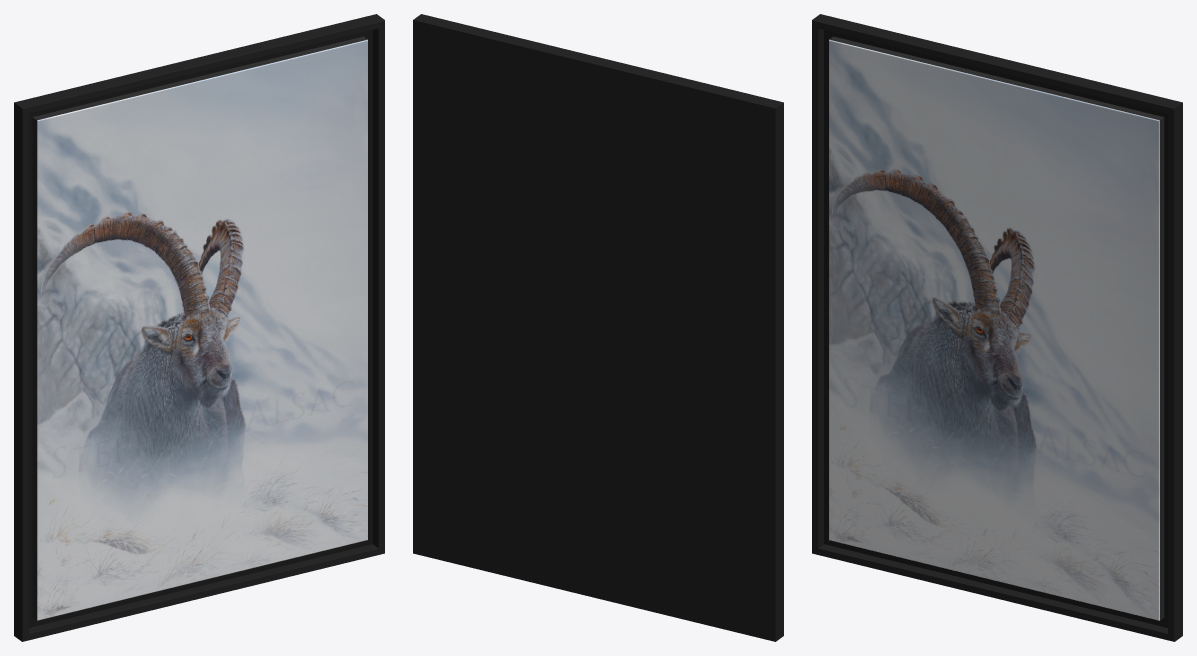
File: tableau-peinture-ibex-grand-e0db24a6.glb
3 views of the same model, side by side, from view 1: azimuth 30°, elevation 25°; view 2: azimuth 150°, elevation 25°; view 3: azimuth 330°, elevation 25° (orthographic).
Parts seen in each view (by area): view 1: Painting; view 2: Painting; view 3: Painting.
Boxes of the visible parts, <box> form: Painting: <box>14,14,384,641</box>; Painting: <box>413,14,783,641</box>; Painting: <box>812,14,1182,641</box>.
Size of the model in its own units: 0.986 by 1.39 by 0.04.
4 materials, 2 textured.
